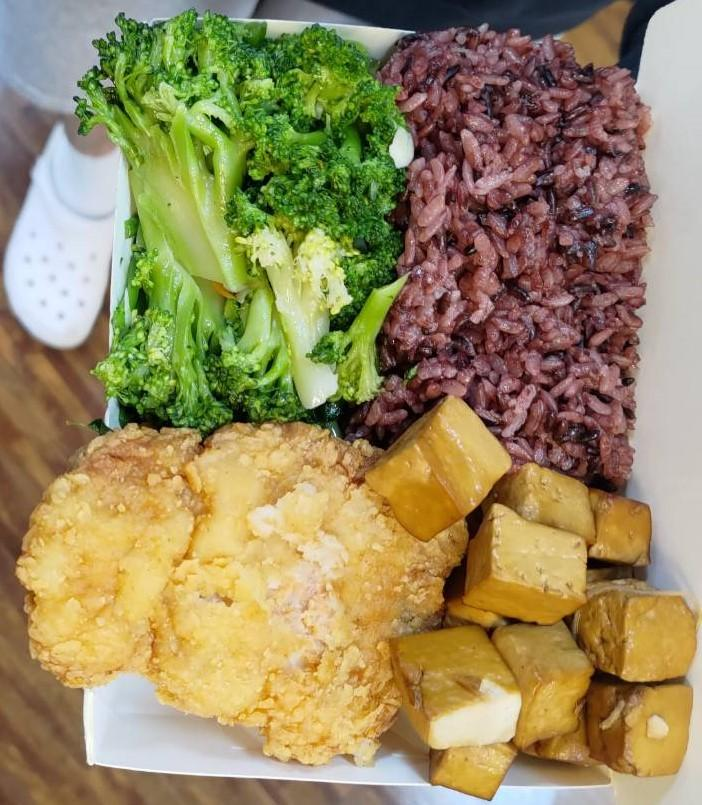big grilled chicken leg: (85, 4, 666, 805)
braised fish: (375, 24, 647, 489)
braised fish fillet: (93, 12, 409, 423), (374, 395, 695, 791)
braised pork: (12, 420, 475, 772)
